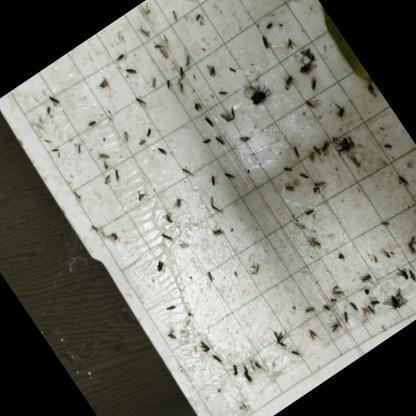prays_oleae: (376, 280, 412, 316), (92, 70, 119, 98), (203, 190, 228, 219), (156, 74, 180, 102), (109, 43, 132, 67), (196, 264, 218, 288), (220, 164, 240, 187), (209, 348, 229, 371), (160, 205, 180, 227), (204, 171, 224, 193), (46, 89, 66, 111), (330, 99, 350, 121), (304, 326, 324, 348), (151, 255, 171, 276), (315, 135, 335, 156), (206, 61, 225, 83), (41, 100, 60, 122), (366, 292, 386, 312), (122, 60, 141, 81), (143, 71, 162, 92), (394, 264, 412, 286), (270, 328, 289, 348), (172, 62, 191, 82), (211, 129, 229, 150), (396, 170, 414, 191), (200, 131, 218, 152), (180, 162, 198, 182), (236, 126, 254, 146), (358, 267, 376, 287), (96, 145, 114, 165), (99, 168, 117, 187), (134, 186, 152, 205), (301, 301, 319, 319), (153, 141, 170, 160), (305, 74, 322, 92), (403, 235, 416, 258), (71, 139, 88, 156), (258, 34, 274, 52), (199, 110, 215, 128), (159, 228, 175, 246), (280, 71, 296, 89), (288, 344, 304, 362), (242, 368, 256, 388), (197, 337, 213, 354), (327, 318, 343, 335), (210, 223, 226, 240), (84, 114, 100, 131), (118, 128, 134, 145), (111, 166, 126, 184), (261, 17, 277, 33), (134, 134, 150, 150), (284, 180, 299, 197), (382, 136, 396, 154), (136, 22, 150, 40), (340, 308, 355, 324), (141, 124, 156, 140), (134, 92, 149, 108), (172, 196, 186, 212), (296, 166, 310, 182), (228, 362, 243, 376), (283, 35, 296, 50), (407, 267, 416, 284), (380, 218, 392, 230), (100, 158, 110, 168), (412, 208, 416, 231)
